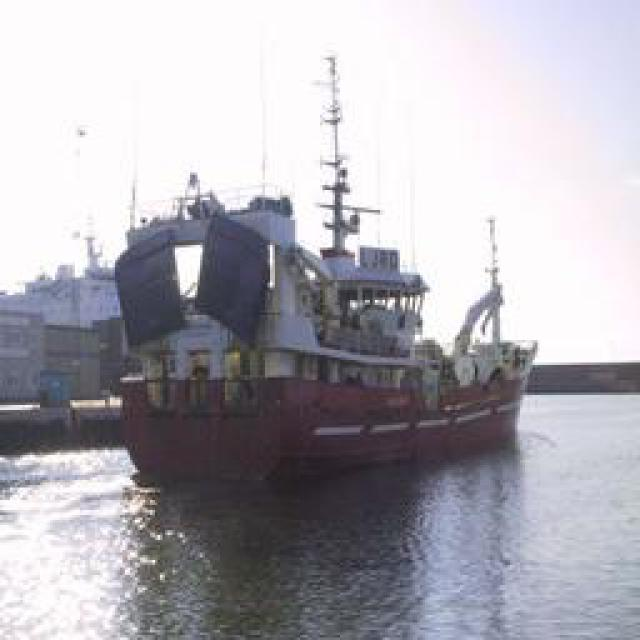Ship: (111, 115, 531, 480)
